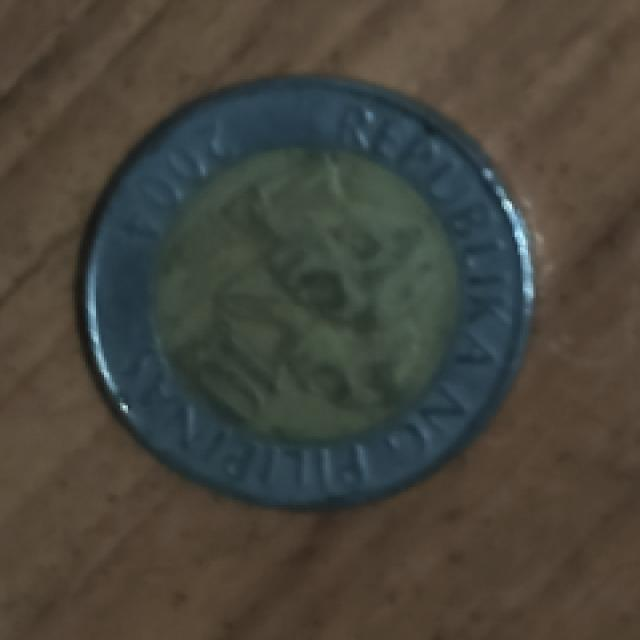10_peso: (85, 79, 531, 505)
